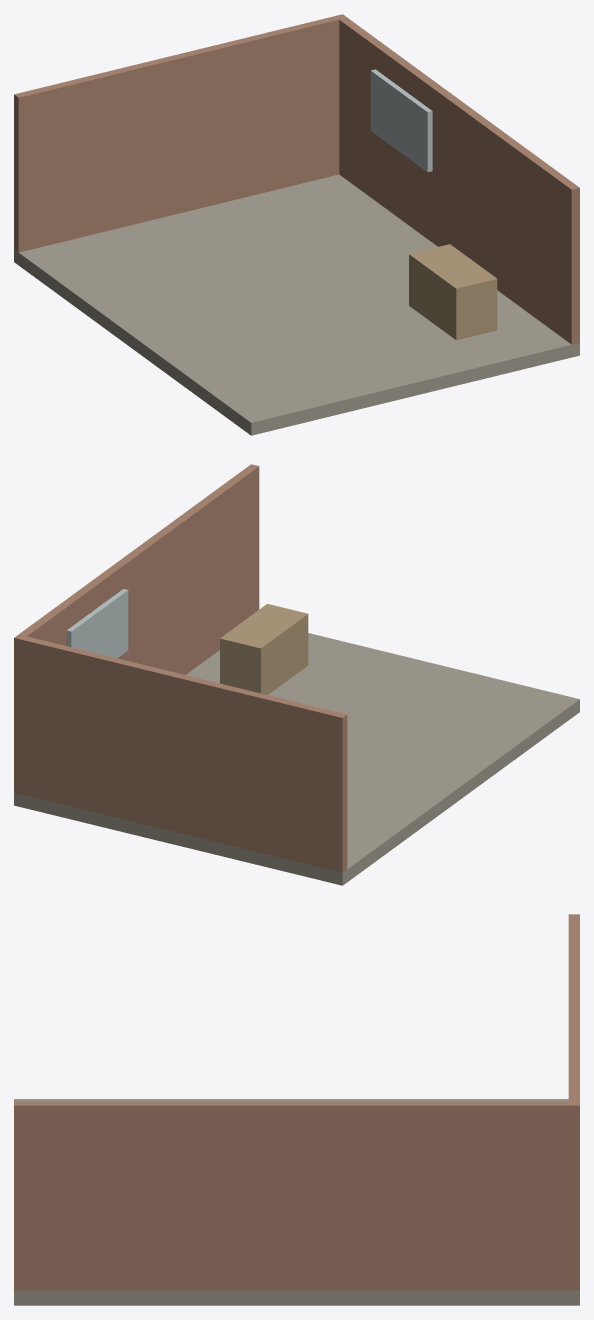
Rendered from room_a.gltf.
3 renders of one model, top to bottom at view 1: azimuth 30°, elevation 25°; view 2: azimuth 150°, elevation 25°; view 3: azimuth 270°, elevation 25°, orthographic. The views are drawn at different scales.
Parts seen in each view (by area): view 1: set; view 2: set; view 3: set.
Part boxes in pixels (x1,y1,x2,y2): set: (14, 14, 579, 435); set: (14, 464, 579, 885); set: (14, 914, 579, 1305).
Size of the model in its own units: 8 by 3.9 by 10.
